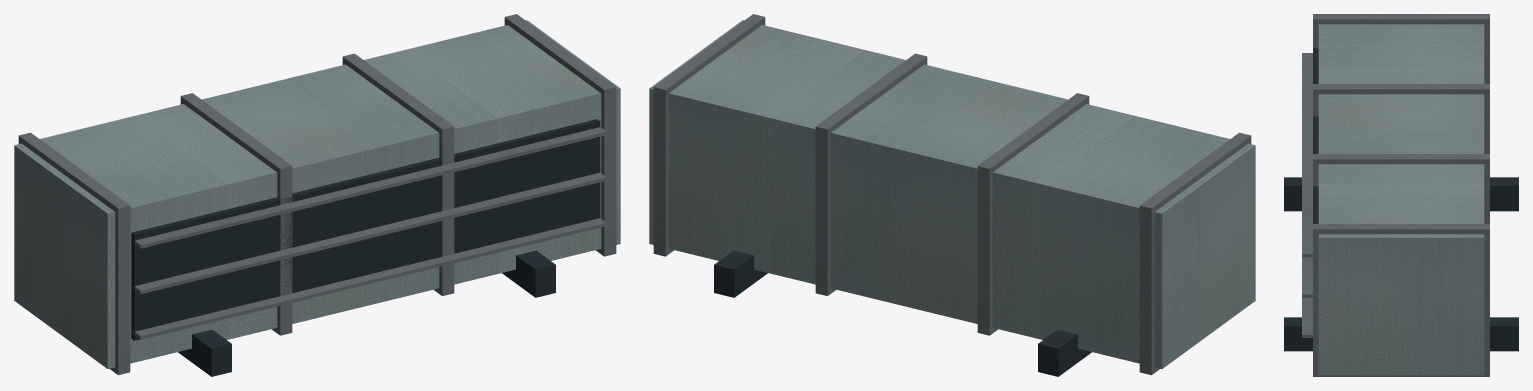
File: NC_DuctBank_LOD1.fbx
The picture shows the model from 3 angles, left to right: view 1: azimuth 30°, elevation 25°; view 2: azimuth 150°, elevation 25°; view 3: azimuth 270°, elevation 25°; orthographic projection. The views are drawn at different scales.
Visible parts, largest first — view 1: NC_DuctBank_LOD1; view 2: NC_DuctBank_LOD1; view 3: NC_DuctBank_LOD1.
Boxes of the visible parts, left/top/right/bottom form: NC_DuctBank_LOD1: left=14, top=14, right=620, bottom=376; NC_DuctBank_LOD1: left=649, top=14, right=1255, bottom=376; NC_DuctBank_LOD1: left=1284, top=14, right=1518, bottom=376.
Size of the model in its own units: 380 by 124 by 170.
